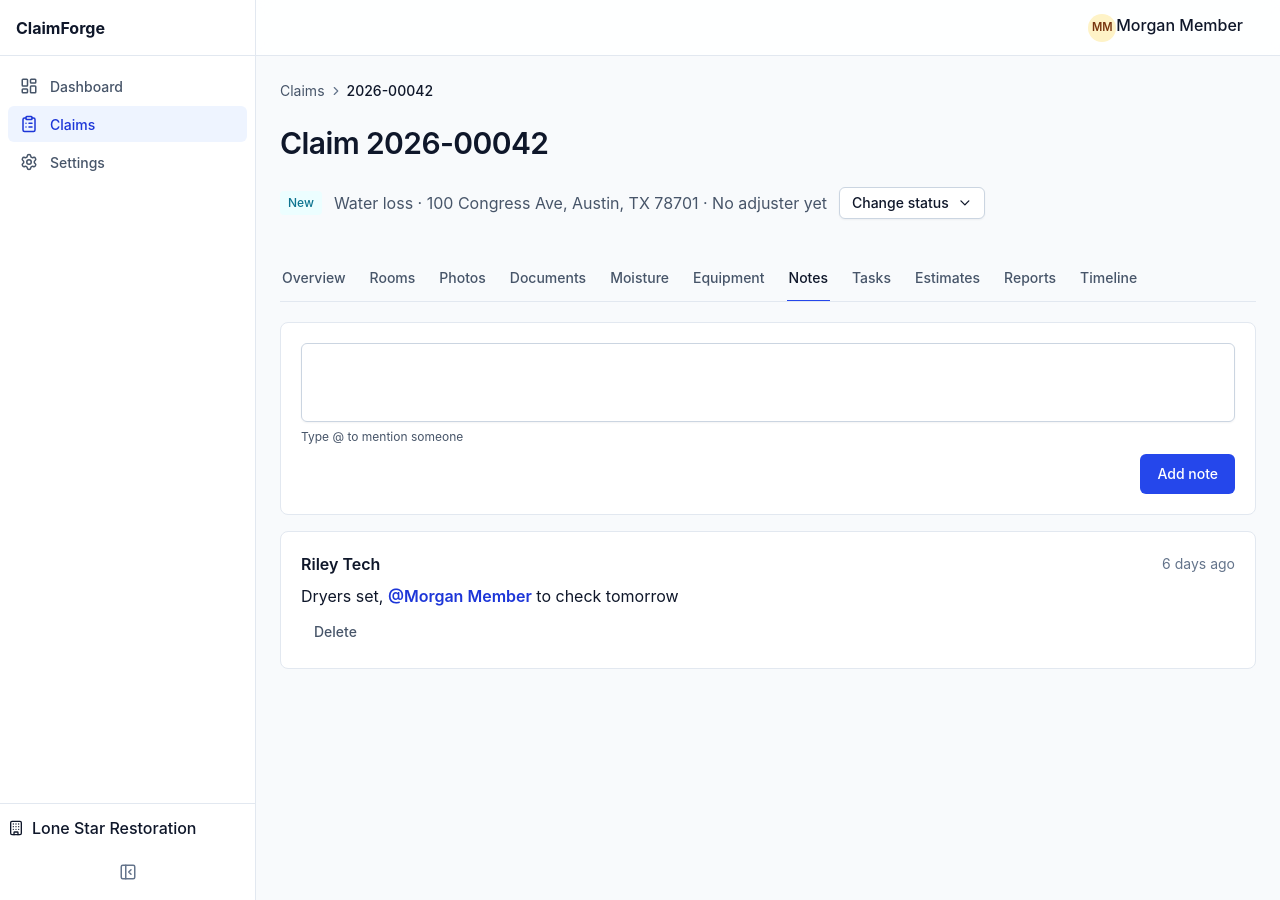
it: writing a note › an empty note isn't sent
Click the button "Add note".
click(1188, 474)  # box x1=1140 y1=454 x2=1235 y2=494
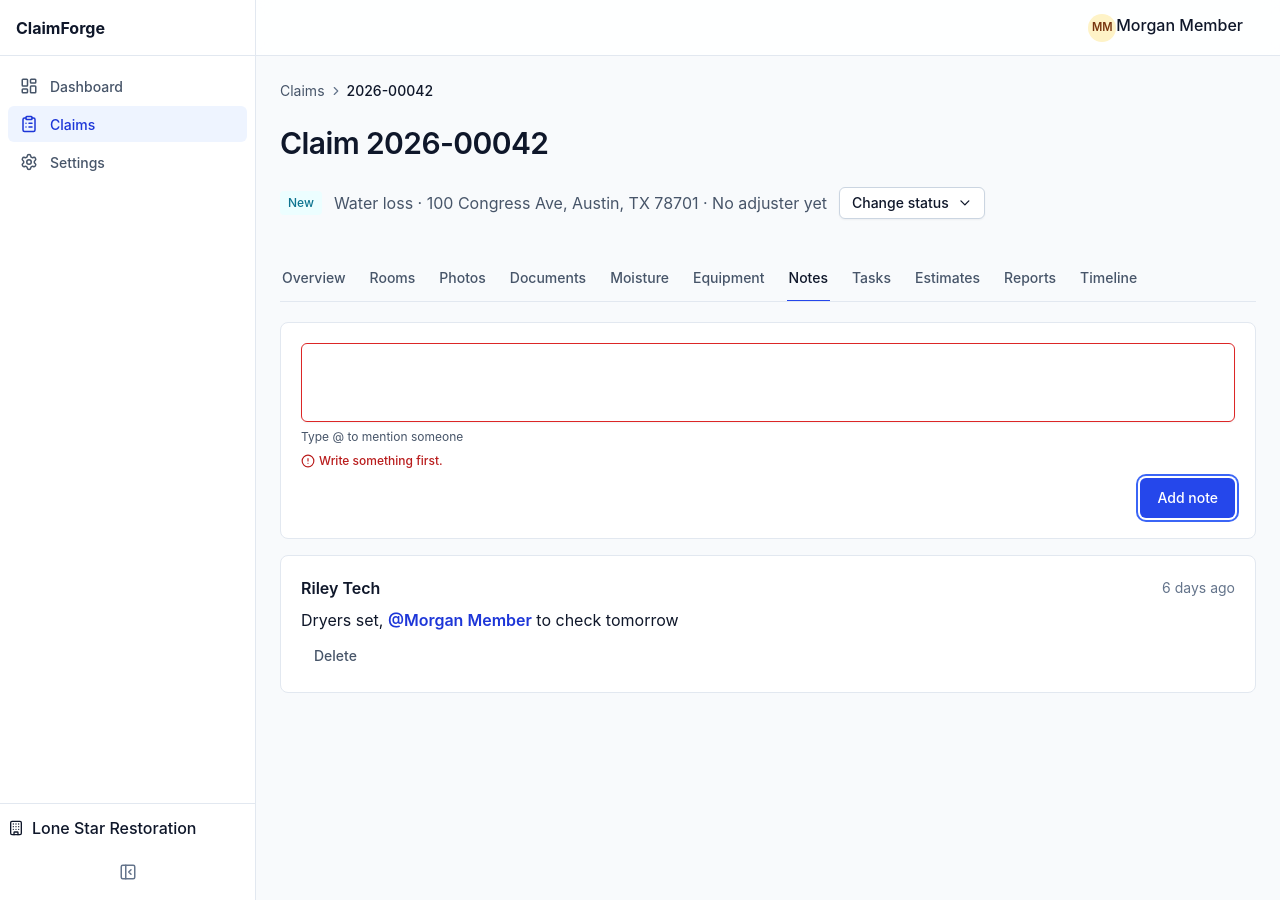
Expected: the text "Write something first." is shown, x1=319 y1=452 x2=443 y2=470
